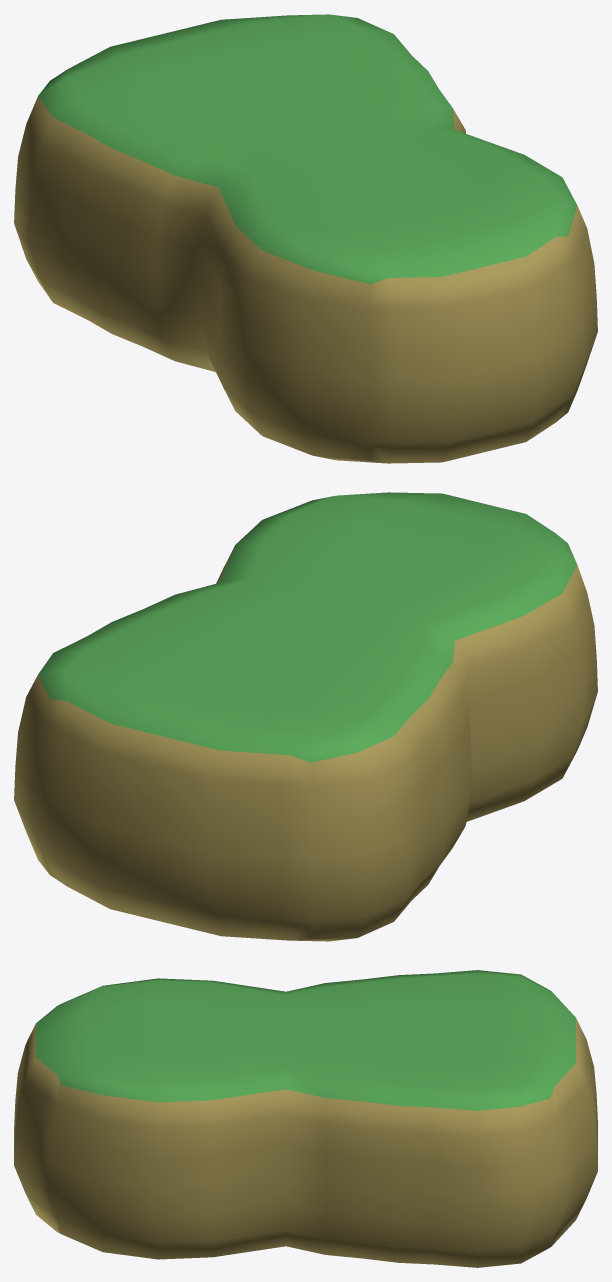
File: Sponge_proxy.fbx
3 views of the same model, one above another, from view 1: azimuth 30°, elevation 25°; view 2: azimuth 150°, elevation 25°; view 3: azimuth 270°, elevation 25° (orthographic). The views are drawn at different scales.
Parts seen in each view (by area): view 1: Sponge; view 2: Sponge; view 3: Sponge.
Part boxes in pixels (x1,y1,x2,y2): Sponge: (14,14,597,463); Sponge: (14,492,597,941); Sponge: (14,970,597,1267).
Size of the model in its own units: 0.1166 by 0.0604 by 0.1828.
